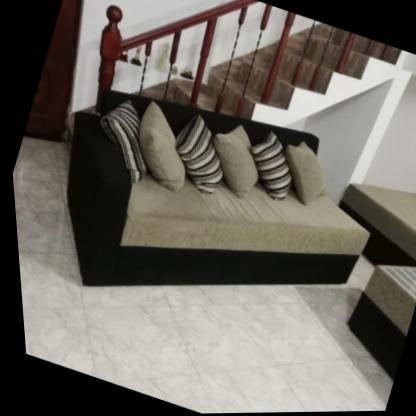Sofa: (14, 55, 398, 373)
